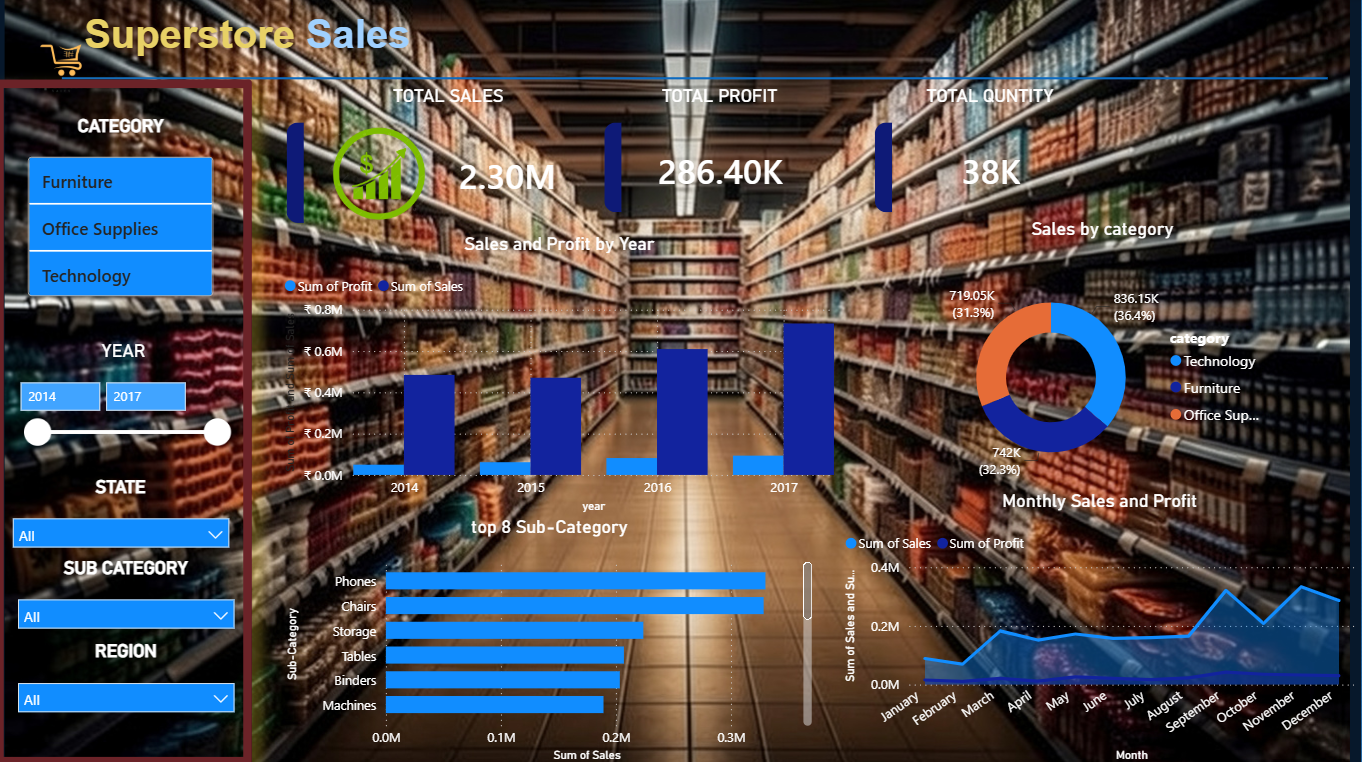

This screenshot's page, from the dashboard's own definition file:
{"tool":"powerbi","page":{"name":"Page 1","canvas":[1280,720],"ordinal":0},"visuals":[{"type":"shape","box":[0,0,1280,719],"z":1000},{"type":"image","box":[1.2,0,1276.6,719],"z":1500},{"type":"shape","box":[63.1,70,1184.2,12.3],"z":2000},{"type":"image","box":[0,0,125.8,133.3],"z":3000},{"type":"textbox","box":[79.5,8.6,331.4,61.1],"z":4000},{"type":"shape","box":[1.2,77,239.7,642],"z":5000},{"type":"cardVisual","title":"TOTAL SALES","fields":{"Data":["Sum(Sample - Superstore.Sales)"]},"box":[269,81.9,311.8,134.5],"z":6000},{"type":"cardVisual","title":"TOTAL PROFIT","fields":{"Data":["Sum(Sample - Superstore.Profit)"]},"box":[566.2,81.9,225,124.9],"z":7000},{"type":"cardVisual","title":"TOTAL QUNTITY","fields":{"Data":["Sum(Sample - Superstore.Quantity)"]},"box":[819.3,81.9,225,124.9],"z":8000},{"type":"clusteredColumnChart","title":"Sales and Profit by Year","fields":{"Category":["Sample - Superstore.year"],"Y":["Sum(Sample - Superstore.Profit)","Sum(Sample - Superstore.Sales)"]},"box":[266.6,220.1,524.6,266.6],"z":9000},{"type":"donutChart","title":"Sales by category","fields":{"Category":["Table 2 (PIVOT).category"],"Y":["Sum(Sample - Superstore.Sales)"]},"box":[873.1,206.7,327.7,267.8],"z":10000},{"type":"clusteredBarChart","title":"top 8 Sub-Category","fields":{"Category":["Sample - Superstore.Sub-Category"],"Y":["Sum(Sample - Superstore.Sales)"]},"box":[269,485.5,501.4,234.8],"z":11000},{"type":"areaChart","title":"Monthly Sales and Profit","fields":{"Category":["Sample - Superstore.month.Variation.Date Hierarchy.Month"],"Y":["Sum(Sample - Superstore.Sales)","Sum(Sample - Superstore.Profit)"]},"box":[791.2,461,486.2,258.8],"z":12000},{"type":"cardVisual","title":"CATEGORY","fields":{"Rows":["Sample - Superstore.Category"]},"box":[26.9,110.1,183.4,194.4],"z":13000},{"type":"slicer","title":"YEAR","fields":{"Values":["Sample - Superstore.year"]},"box":[12.2,320.4,217.7,122.3],"z":14000},{"type":"slicer","title":"STATE","fields":{"Values":["Sample - Superstore.State"]},"box":[7.8,447.8,222.5,77.5],"z":15000},{"type":"slicer","title":"REGION","fields":{"Values":["Sample - Superstore.Region"]},"box":[12.2,601.6,222.5,77.5],"z":16000},{"type":"slicer","title":"SUB CATEGORY","fields":{"Values":["Sample - Superstore.Sub-Category"]},"box":[12.5,523.8,222.5,77.5],"z":17000}]}

Visuals, with their boxes in screenshot pixels (x1, y1, x2, y2), scaled from the page's 1280x720 canvas onto the 1362x762 screenshot:
shape: l=0, t=0, r=1361, b=761
image: l=1, t=0, r=1360, b=761
shape: l=67, t=74, r=1327, b=87
image: l=0, t=0, r=134, b=141
textbox: l=85, t=9, r=437, b=74
shape: l=1, t=81, r=256, b=761
"TOTAL SALES" cardVisual: l=286, t=87, r=618, b=229
"TOTAL PROFIT" cardVisual: l=602, t=87, r=842, b=219
"TOTAL QUNTITY" cardVisual: l=872, t=87, r=1111, b=219
"Sales and Profit by Year" clusteredColumnChart: l=284, t=233, r=842, b=515
"Sales by category" donutChart: l=929, t=219, r=1278, b=502
"top 8 Sub-Category" clusteredBarChart: l=286, t=514, r=820, b=761
"Monthly Sales and Profit" areaChart: l=842, t=488, r=1359, b=761
"CATEGORY" cardVisual: l=29, t=117, r=224, b=322
"YEAR" slicer: l=13, t=339, r=245, b=469
"STATE" slicer: l=8, t=474, r=245, b=556
"REGION" slicer: l=13, t=637, r=250, b=719
"SUB CATEGORY" slicer: l=13, t=554, r=250, b=636
